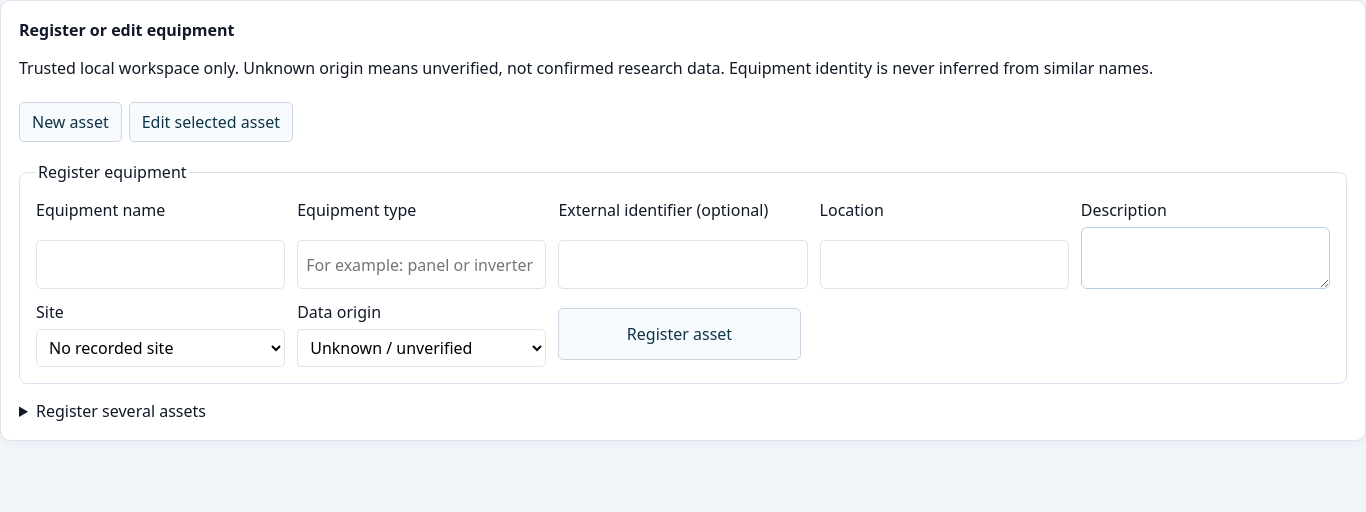
Test: loads selected equipment for revision-checked edits and keeps origin immutable
Later steps or results of the test are not shown.
Step 1. Click the button "Edit selected asset" → (211, 122), box [129, 102, 293, 142]
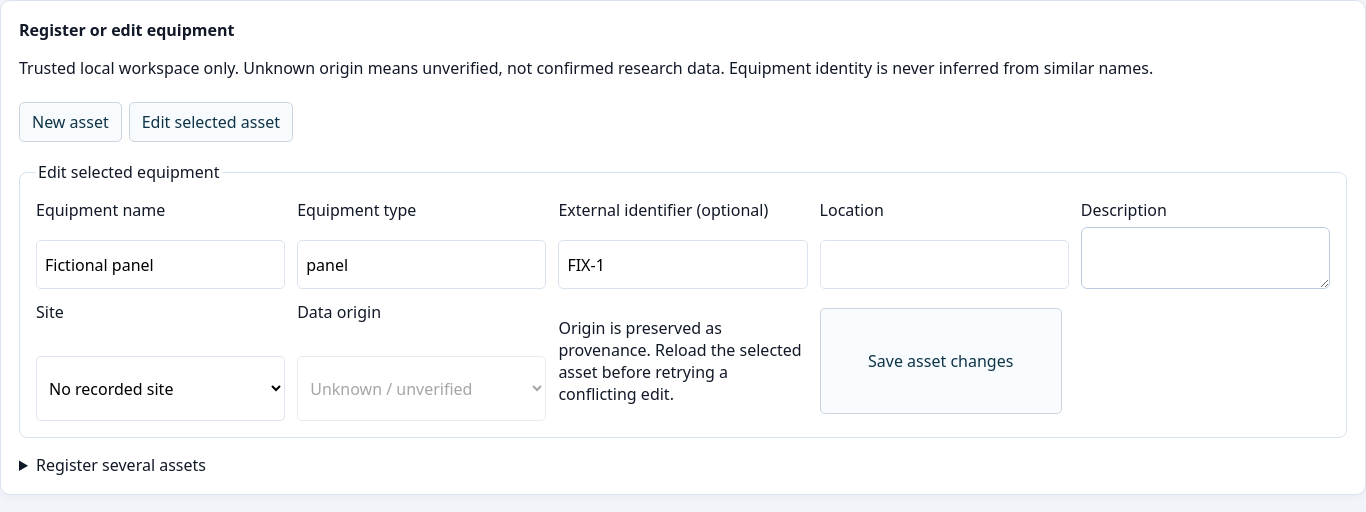
expect the button "Save asset changes" is shown: met, box [820, 308, 1062, 414]
expect the dropdown labelled "Data origin" is disabled: met, box [297, 356, 546, 421]
